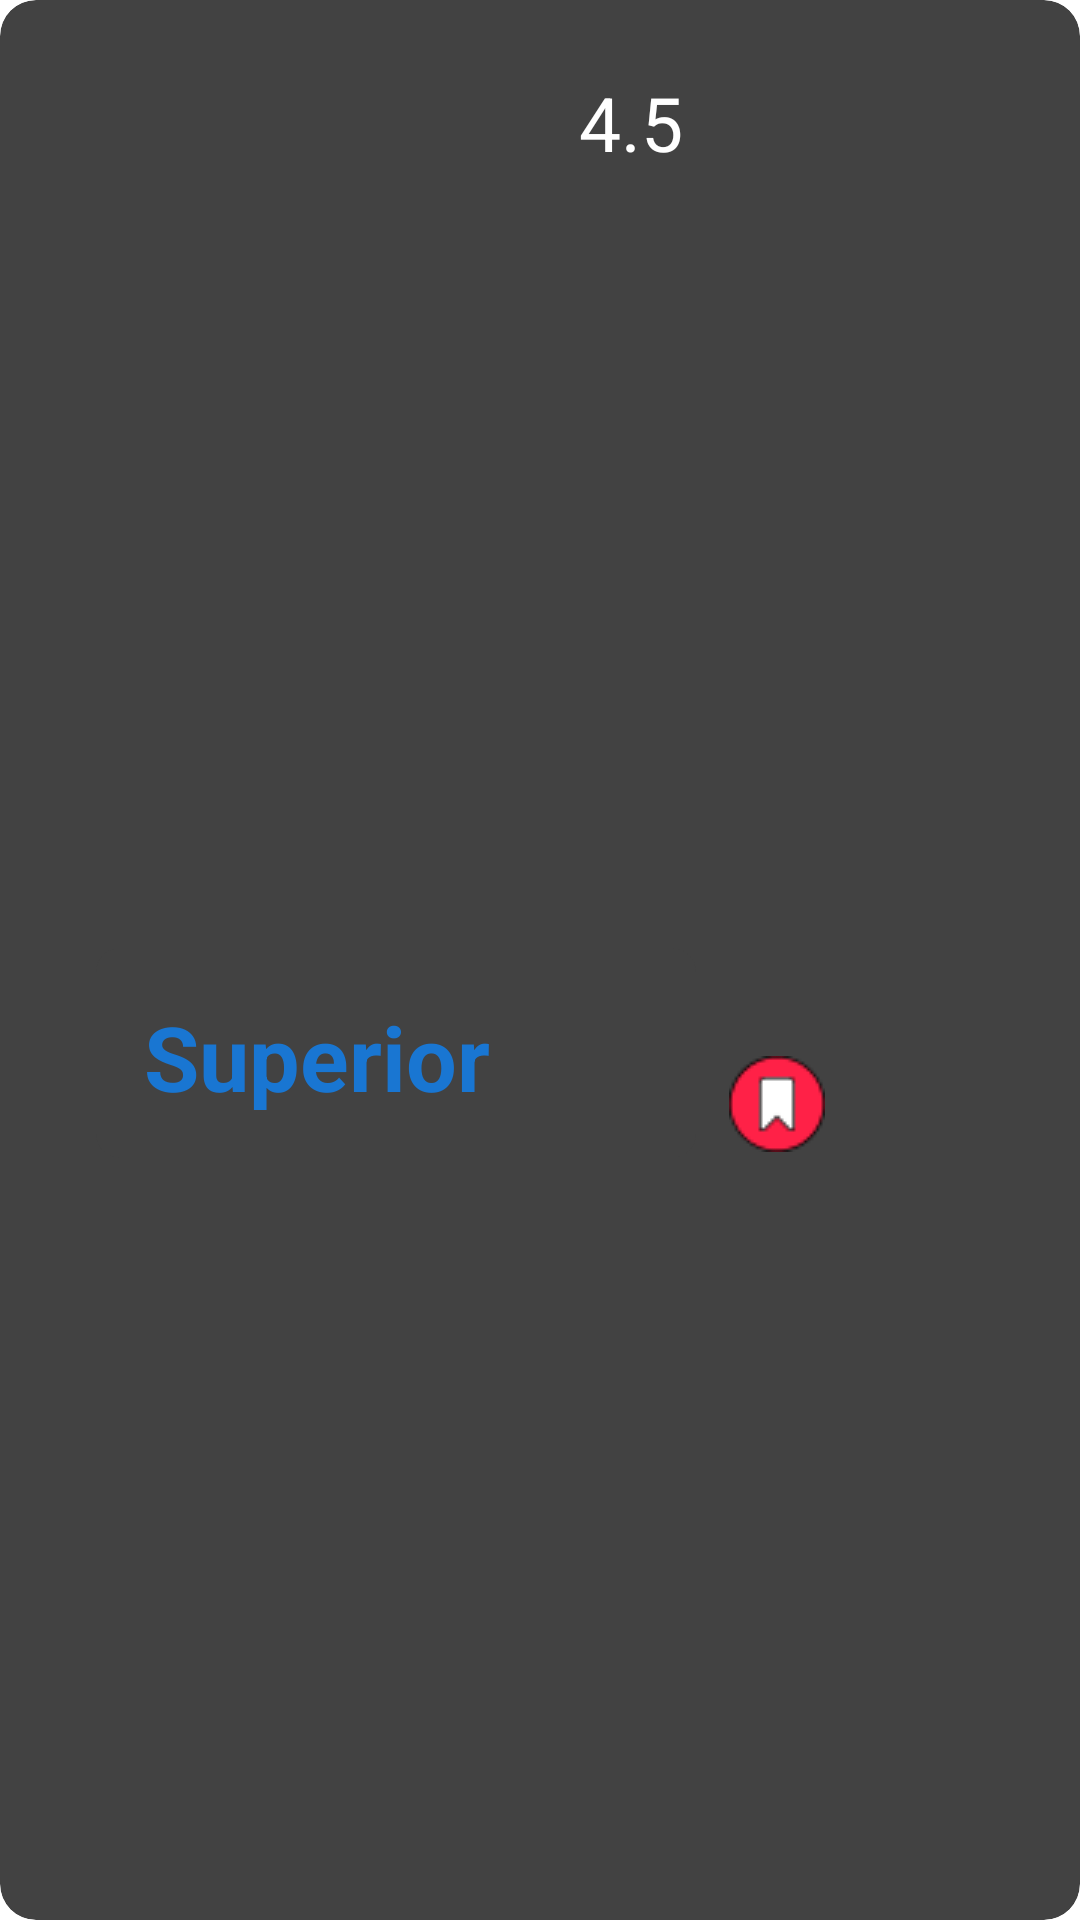

Where icons sit on this 1080*1920 app screen, as detection(x1, y1, x2, y2):
bookmark: detection(729, 1056, 825, 1152)
